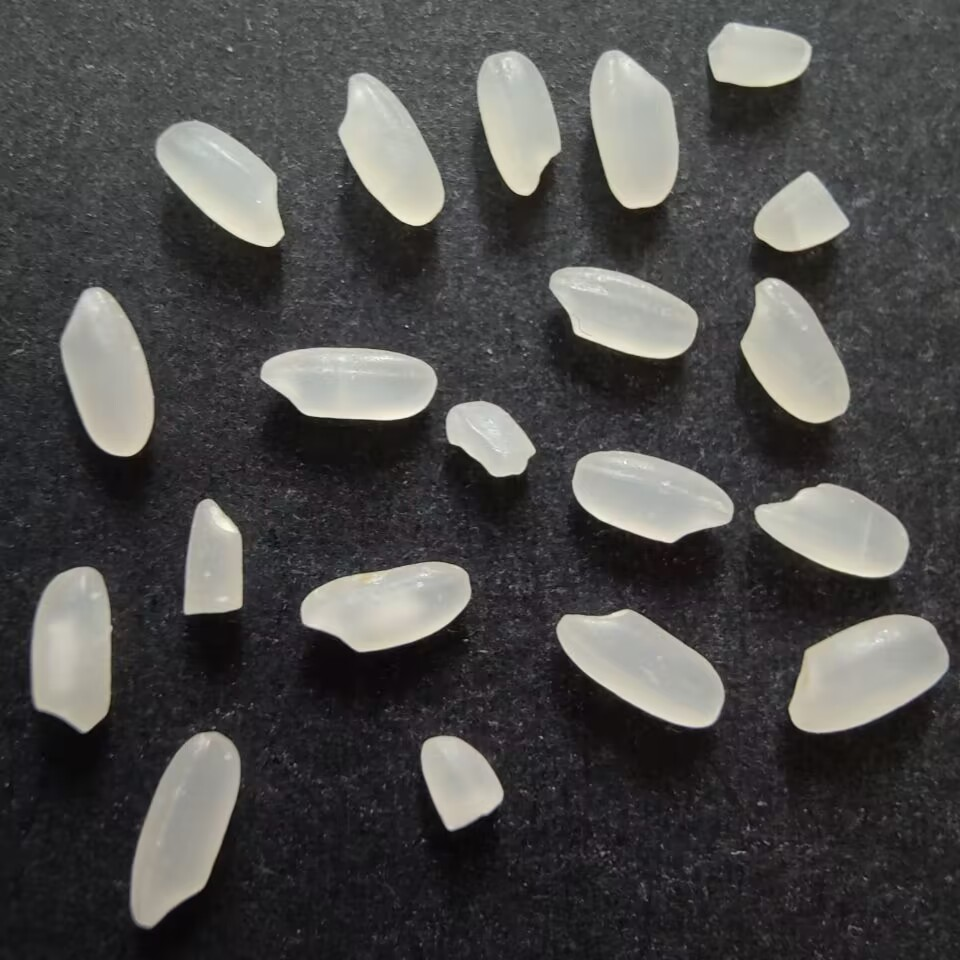broken: (173, 494, 249, 625), (417, 733, 510, 835), (751, 169, 852, 256), (700, 18, 815, 93), (440, 397, 540, 481)
rice: (125, 726, 245, 934), (549, 607, 727, 732), (787, 612, 954, 739), (333, 66, 446, 232), (150, 119, 288, 254), (56, 283, 157, 465), (736, 274, 854, 428), (584, 45, 686, 215), (296, 557, 471, 655), (568, 449, 738, 549), (751, 479, 915, 581), (26, 562, 118, 739), (254, 342, 441, 427), (543, 264, 701, 362), (471, 46, 565, 200)
